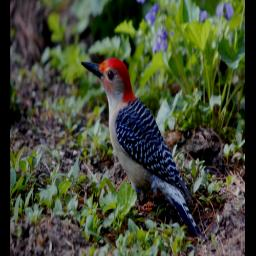Woodpecker: (81, 57, 202, 238)
